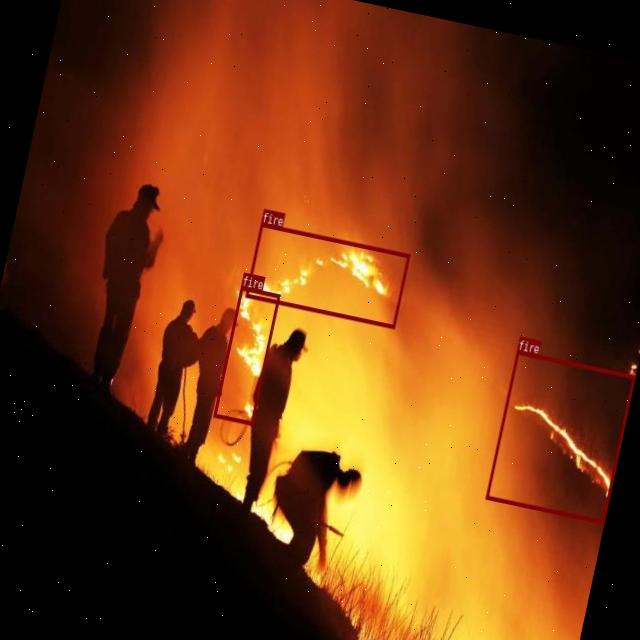fire: (484, 350, 634, 522), (244, 222, 408, 328), (212, 286, 280, 424)
